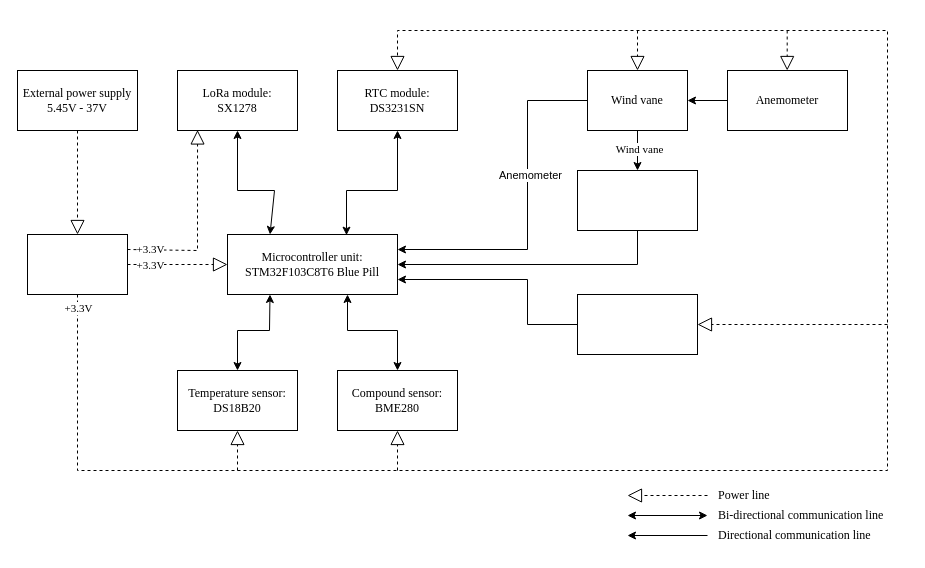
Image size: 925x568. Some labels were removed from this diagram. Here are the shapes that lost their labels. From the top down, the box of each, then its label:
(576, 170, 698, 230): Active Low-pass Filter: f c = 11.587 kHz
(26, 234, 128, 294): Voltage regulator: LM317
(576, 294, 698, 354): Rain gauge
